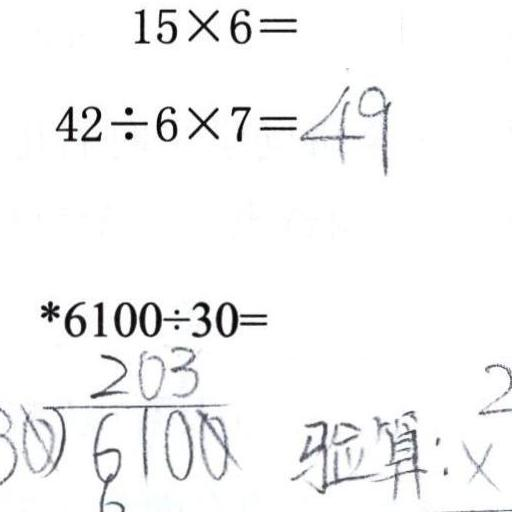ans: (296, 77, 393, 174)
